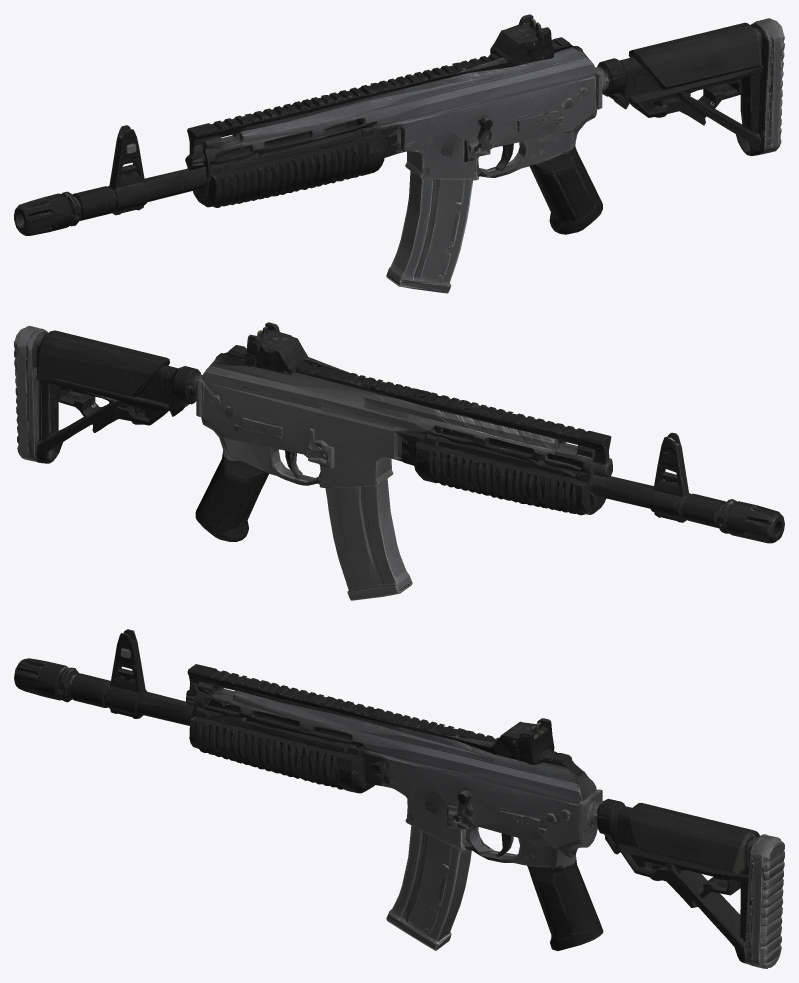
The model's file is breacher.glb.
3 views of the same model, one above another, from view 1: azimuth 30°, elevation 25°; view 2: azimuth 150°, elevation 25°; view 3: azimuth 330°, elevation 25° (orthographic).
Size of the model in its own units: 1.9 by 0.5853 by 0.1401.
Materials: 1 (1 with a texture image).
